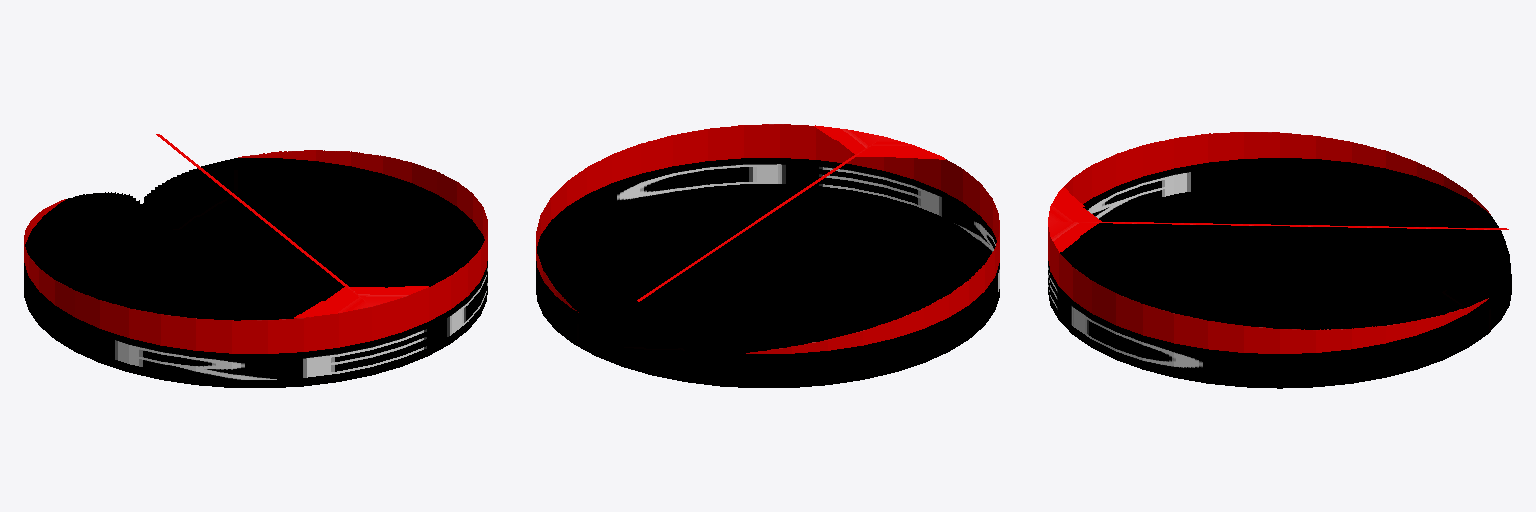
3 renders of one model, left to right at view 1: azimuth 30°, elevation 25°; view 2: azimuth 150°, elevation 25°; view 3: azimuth 270°, elevation 25°, orthographic.
Parts seen in each view (by area): view 1: Cylinder; view 2: Cylinder; view 3: Cylinder.
Boxes of the visible parts, box(x1,y1,x2,y2) form: Cylinder: box(24, 134, 487, 387); Cylinder: box(536, 124, 999, 387); Cylinder: box(1048, 132, 1511, 388).
Size of the model in its own units: 0.8 by 0.1305 by 0.8.
Materials: 1 (1 with a texture image).